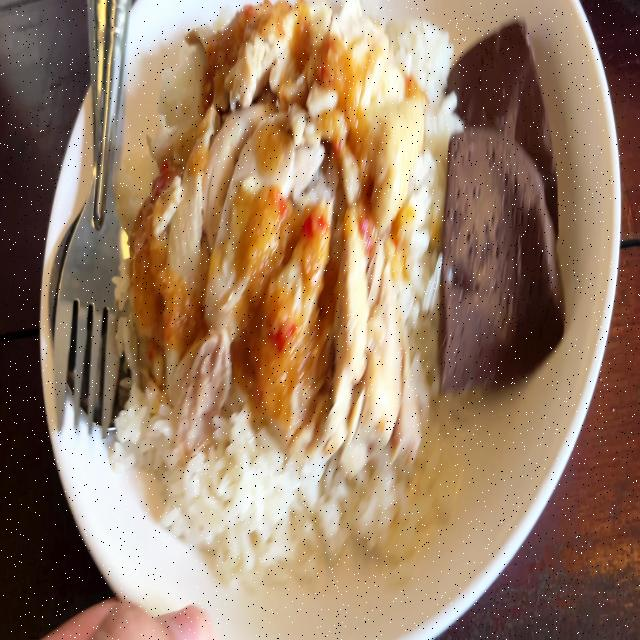boiled_chicken: (130, 15, 421, 444)
boiled_chicken_blood_jelly: (439, 126, 548, 378), (448, 42, 562, 226)
chicken_rice: (110, 0, 570, 597)
